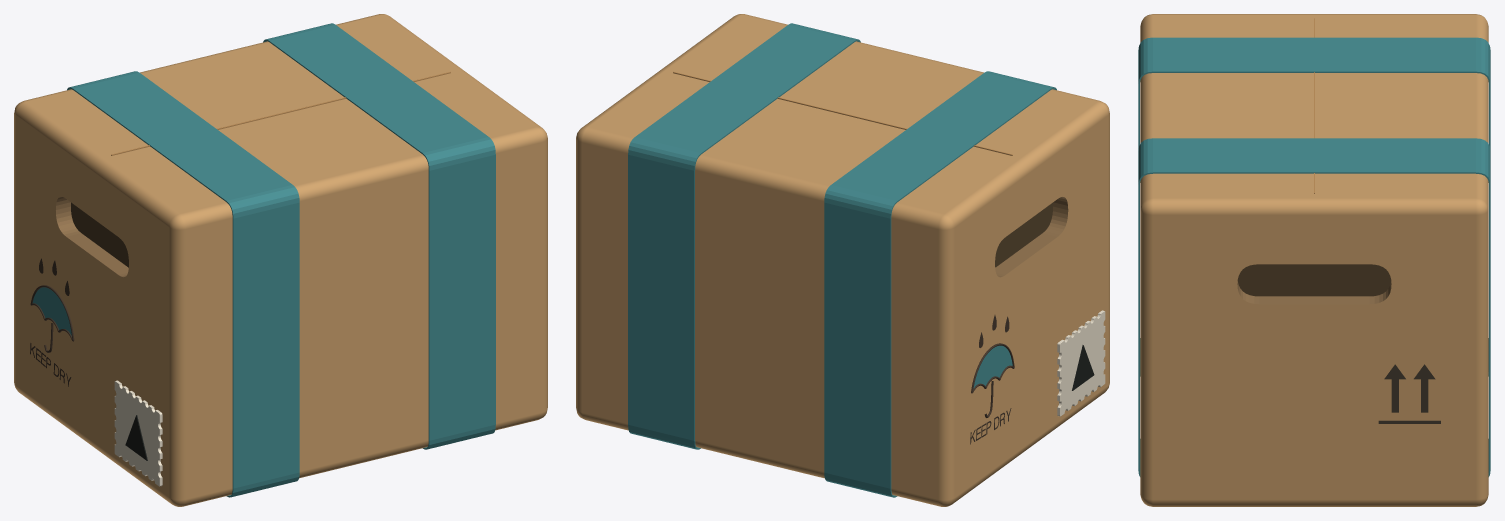
Rendered from play-parcel-large-teal.glb.
The picture shows the model from 3 angles, left to right: view 1: azimuth 30°, elevation 25°; view 2: azimuth 150°, elevation 25°; view 3: azimuth 270°, elevation 25°; orthographic projection. The views are drawn at different scales.
Visible parts, largest first — view 1: Parcel_Carton, Parcel_Tape_Parallel_1, Parcel_Tape_Parallel_2, Parcel_Paper_Label, Parcel_Carry_Slot_Walls_Negative_X, Parcel_Carry_Slot_Interior_Negative_X, Parcel_Care_Umbrella_Canopy; view 2: Parcel_Carton, Parcel_Tape_Parallel_1, Parcel_Tape_Parallel_2, Parcel_Paper_Label, Parcel_Carry_Slot_Walls_Negative_X, Parcel_Carry_Slot_Interior_Negative_X, Parcel_Care_Umbrella_Canopy; view 3: Parcel_Carton, Parcel_Tape_Parallel_2, Parcel_Tape_Parallel_1, Parcel_Carry_Slot_Interior_Positive_X, Parcel_Carry_Slot_Walls_Positive_X, Parcel_Up_Arrows_Positive_X.
Part boxes in pixels (<box>): Parcel_Carton: <box>14,14,547,506</box>; Parcel_Tape_Parallel_1: <box>67,71,299,497</box>; Parcel_Tape_Parallel_2: <box>263,23,495,449</box>; Parcel_Paper_Label: <box>114,380,162,486</box>; Parcel_Carry_Slot_Walls_Negative_X: <box>56,196,128,277</box>; Parcel_Carry_Slot_Interior_Negative_X: <box>71,202,128,267</box>; Parcel_Care_Umbrella_Canopy: <box>32,287,71,335</box>; Parcel_Carton: <box>576,14,1109,506</box>; Parcel_Tape_Parallel_1: <box>824,71,1056,497</box>; Parcel_Tape_Parallel_2: <box>628,23,860,449</box>; Parcel_Paper_Label: <box>1057,310,1105,416</box>; Parcel_Carry_Slot_Walls_Negative_X: <box>995,197,1068,277</box>; Parcel_Carry_Slot_Interior_Negative_X: <box>995,202,1052,267</box>; Parcel_Care_Umbrella_Canopy: <box>973,345,1012,388</box>; Parcel_Carton: <box>1140,14,1488,506</box>; Parcel_Tape_Parallel_2: <box>1138,138,1490,476</box>; Parcel_Tape_Parallel_1: <box>1138,37,1490,376</box>; Parcel_Carry_Slot_Interior_Positive_X: <box>1237,264,1391,296</box>; Parcel_Carry_Slot_Walls_Positive_X: <box>1237,281,1391,304</box>; Parcel_Up_Arrows_Positive_X: <box>1378,364,1440,423</box>.
Bounding box in the file's own units: 0.253 × 0.187 × 0.192.
